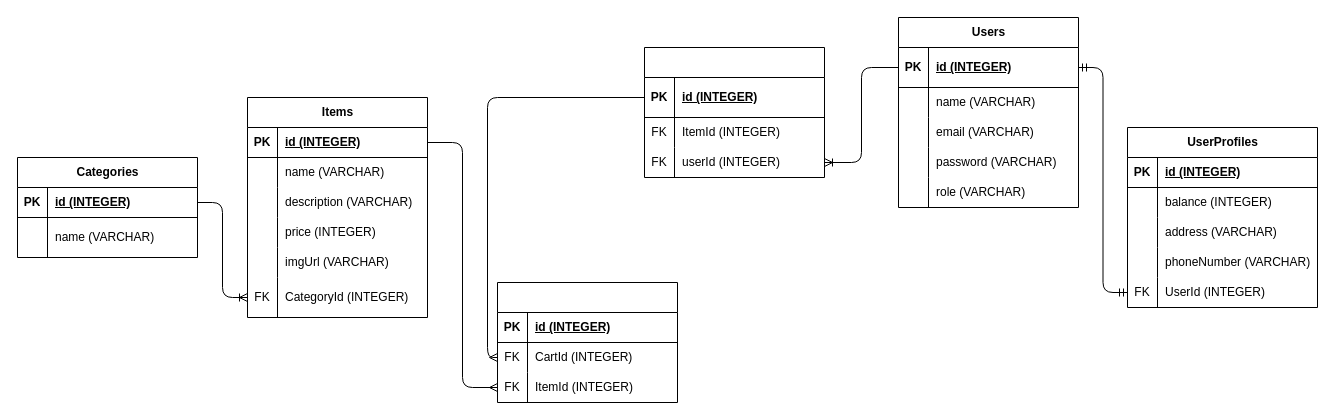
Image size: 1335x420. Some labels were removed from this diagram. Each missing label, with the box of its shape:
CartItems: (496, 282, 678, 402)
Carts: (644, 46, 824, 178)
